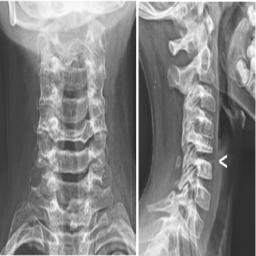cancer: (47, 119, 96, 142), (193, 140, 214, 154)
